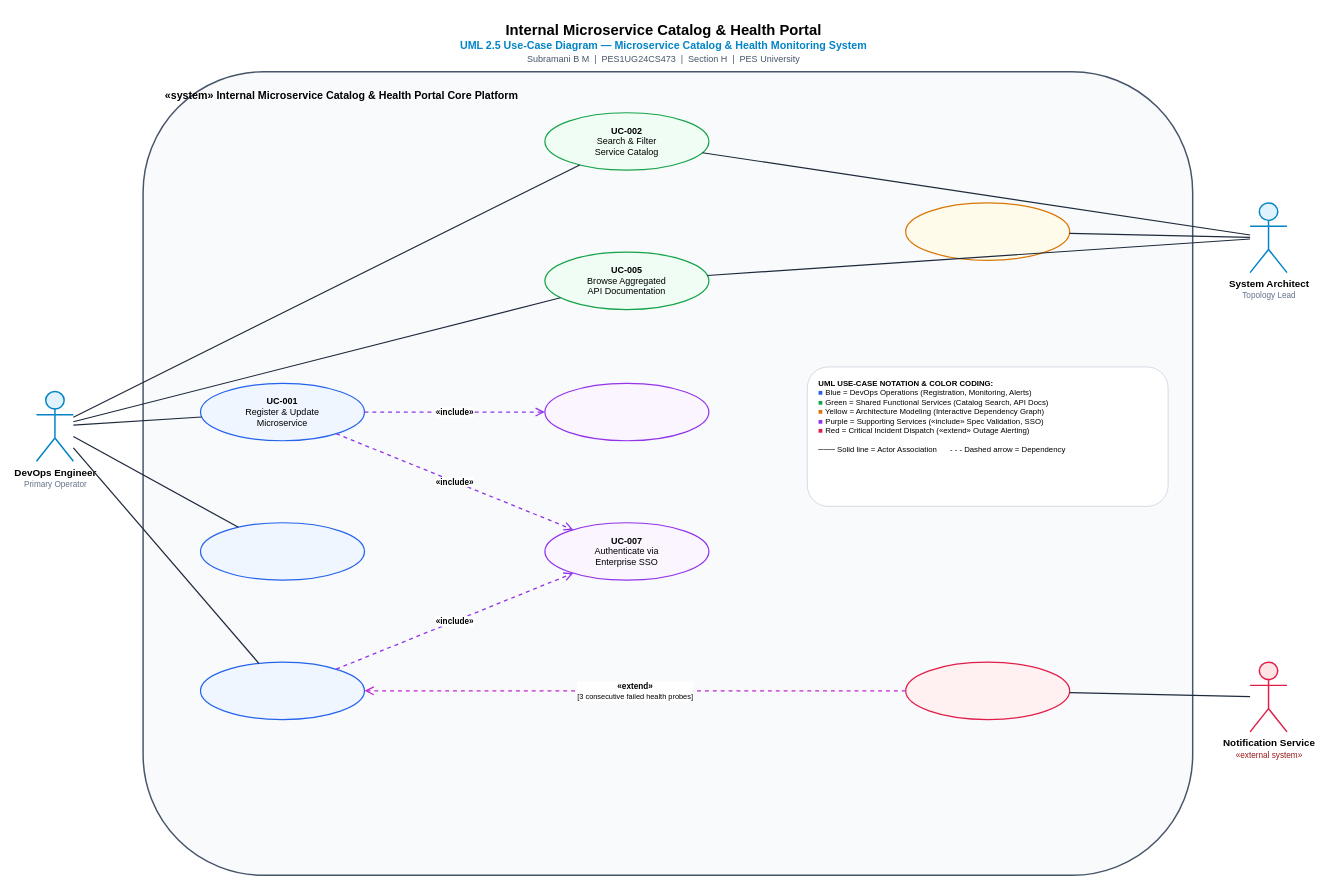
Image size: 1328x890. Some labels were removed from this diagram. Here are the shapes that lost their labels. From the top down, the centre of each, then its label:
At point (987, 231): "UC-003 View Interactive Dependency Graph".
At point (626, 411): "UC-008 Validate Service Metadata & Spec".
At point (282, 551): "UC-006 Configure Alert Channels & On-Call".
At point (282, 690): "UC-004 Monitor Microservice Health & Availability".
At point (987, 690): "UC-009 Dispatch Real-Time Downtime Alert".
